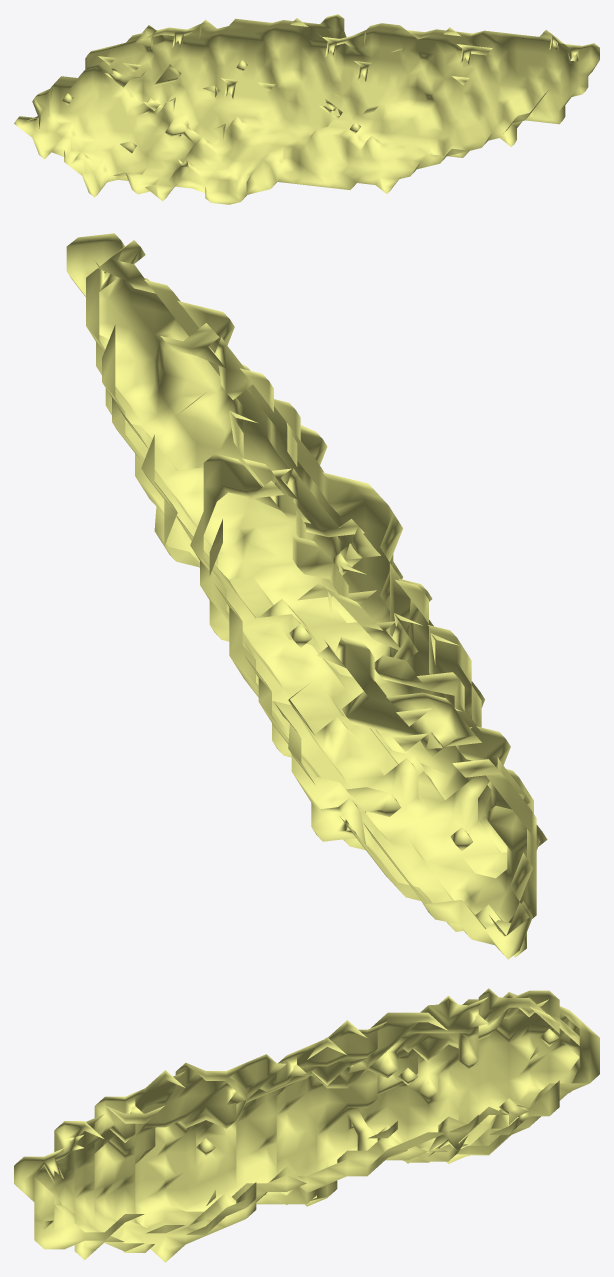
File: osteocyte_134.glb
3 renders of one model, top to bottom at view 1: azimuth 30°, elevation 25°; view 2: azimuth 150°, elevation 25°; view 3: azimuth 270°, elevation 25°, orthographic. The views are drawn at different scales.
Visible parts, largest first — view 1: osteocyte_134; view 2: osteocyte_134; view 3: osteocyte_134.
Boxes of the visible parts, bbox=[...] form: osteocyte_134: bbox=[14, 14, 599, 204]; osteocyte_134: bbox=[66, 233, 547, 959]; osteocyte_134: bbox=[14, 988, 599, 1262].
Bounding box in the file's own units: 16.85 × 7.22 × 13.96.
